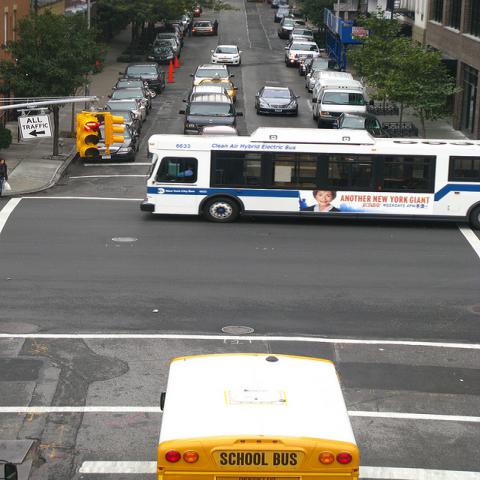bus: (133, 124, 476, 227), (161, 351, 364, 474)
car: (111, 1, 456, 225), (177, 103, 245, 133), (251, 83, 305, 117), (119, 61, 166, 95), (332, 113, 393, 138), (97, 98, 149, 122), (199, 72, 238, 100), (108, 87, 152, 111), (183, 85, 234, 104), (190, 64, 234, 86), (210, 45, 243, 66), (192, 21, 216, 36), (158, 28, 178, 38), (165, 20, 182, 27)
truck: (311, 78, 374, 129), (288, 28, 316, 42)
